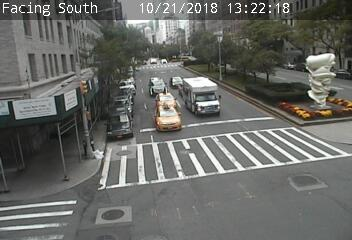car: (183, 77, 221, 116), (156, 107, 182, 132), (156, 93, 177, 108), (149, 79, 167, 95), (170, 76, 184, 88)
